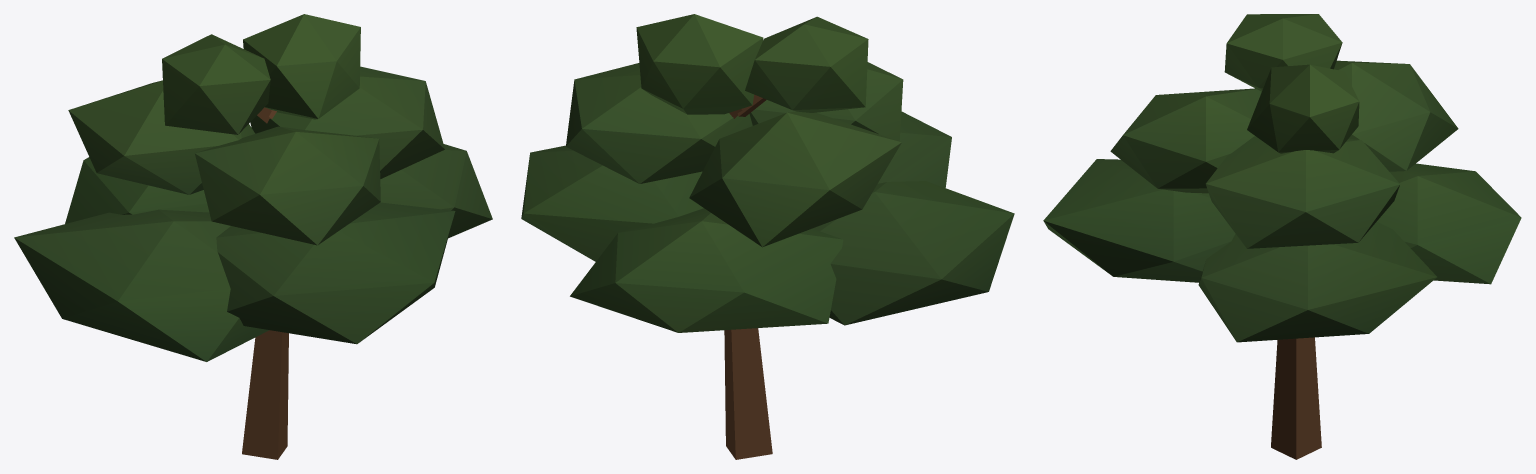
File: cay_bang.lite.glb
3 views of the same model, side by side, from view 1: azimuth 30°, elevation 25°; view 2: azimuth 150°, elevation 25°; view 3: azimuth 270°, elevation 25° (orthographic). The views are drawn at different scales.
Parts seen in each view (by area): view 1: tan, than; view 2: tan, than; view 3: tan, than.
Boxes of the visible parts, x1,y1,x2,y2 form: tan: (14, 14, 492, 361); than: (242, 330, 288, 459); tan: (521, 14, 1014, 332); than: (724, 328, 772, 459); tan: (1043, 14, 1521, 342); than: (1271, 337, 1321, 459).
Bounding box in the file's own units: 7.45 × 7.06 × 7.49.
